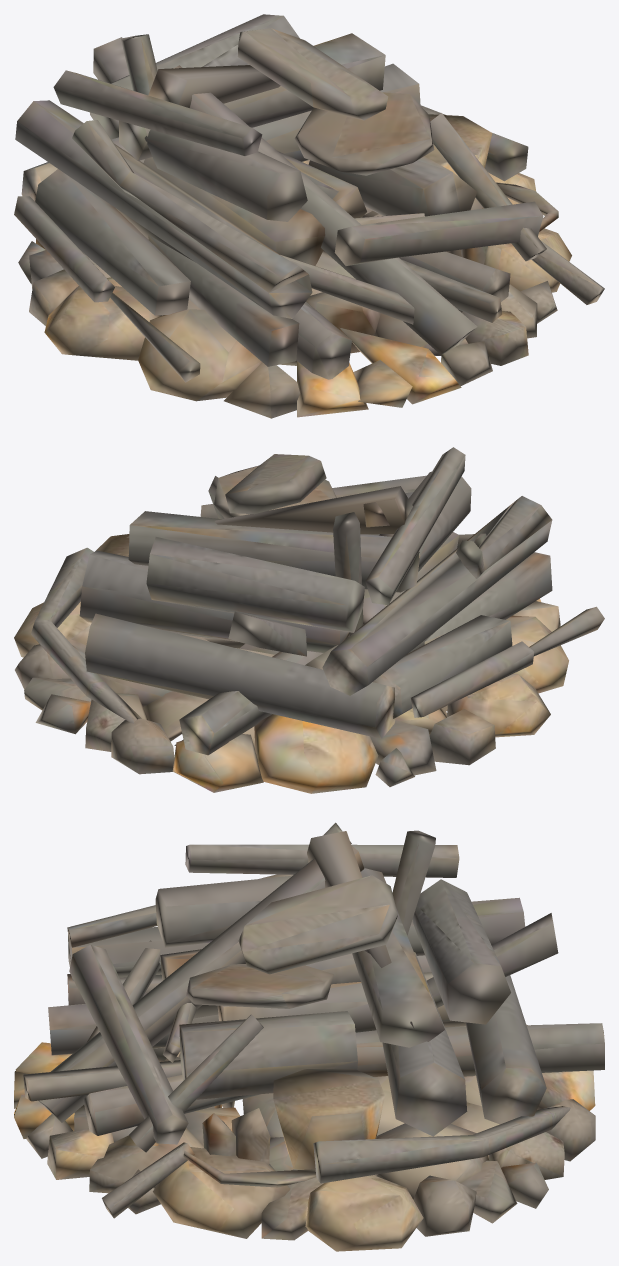
The model's file is salvage-driftwood.glb.
The picture shows the model from 3 angles, top to bottom: view 1: azimuth 30°, elevation 25°; view 2: azimuth 150°, elevation 25°; view 3: azimuth 270°, elevation 25°; orthographic projection. The views are drawn at different scales.
Parts seen in each view (by area): view 1: salvage-driftwood; view 2: salvage-driftwood; view 3: salvage-driftwood.
Boxes of the visible parts, x1=… form: salvage-driftwood: x1=14, y1=14, x2=604, y2=418; salvage-driftwood: x1=14, y1=447, x2=604, y2=793; salvage-driftwood: x1=14, y1=822, x2=604, y2=1251.
Size of the model in its own units: 0.85 by 0.4144 by 0.8491.
1 material, 1 textured.
